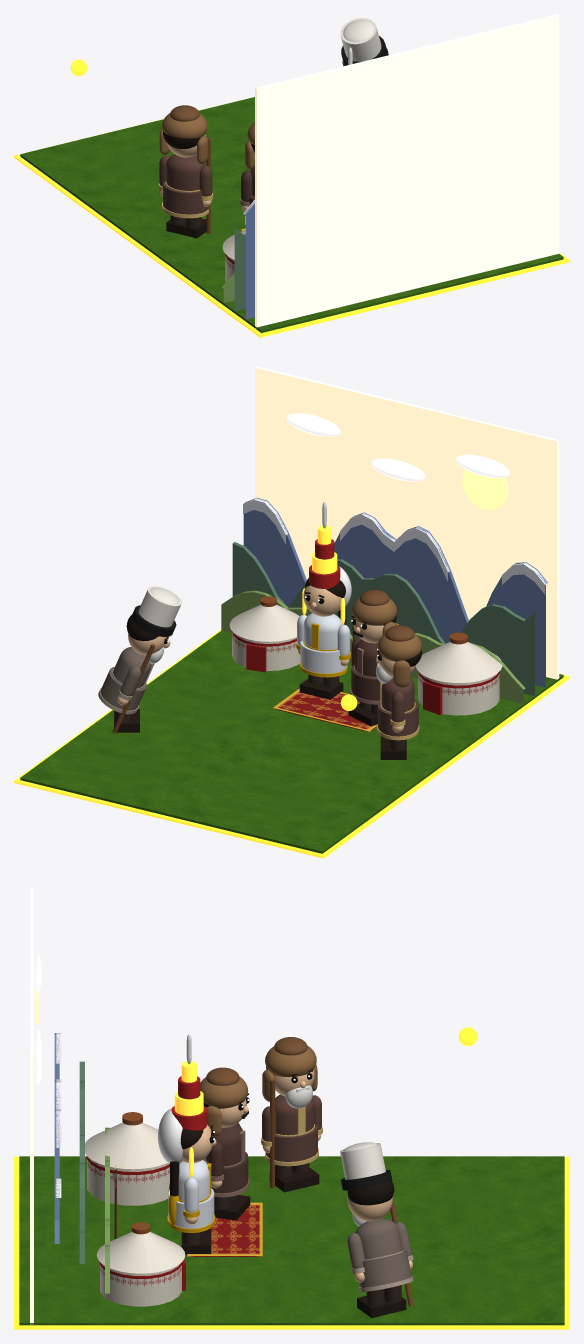
The picture shows the model from 3 angles, top to bottom: view 1: azimuth 30°, elevation 25°; view 2: azimuth 150°, elevation 25°; view 3: azimuth 270°, elevation 25°; orthographic projection. The views are drawn at different scales.
Visible parts, largest first — view 1: Аспан, Жер, Жиек, Torso, Алыс жота, Skirt, Орта жота, Kalpak, Tymaq, Top; view 2: Жер, Аспан, Алыс жота, Орта жота, Күмбез (×2), Жиек, Кереге (×2), Skirt (×4), Бұлт (×3), Қар, Torso (×3), Жақын төбе (+5 smaller); view 3: Жер, Күмбез (×2), Кереге (×2), Жиек, Skirt (×4), Torso (×4), Кілем, Tymaq (×2), Аспан, Kalpak, Орта жота, Face (×2) (+6 smaller).
Boxes of the visible parts, bbox=[...] form: Аспан: bbox=[255, 14, 559, 328]; Жер: bbox=[20, 97, 563, 332]; Жиек: bbox=[14, 98, 569, 337]; Torso: bbox=[166, 154, 204, 190]; Алыс жота: bbox=[244, 203, 254, 319]; Skirt: bbox=[163, 182, 207, 214]; Орта жота: bbox=[234, 228, 245, 311]; Kalpak: bbox=[340, 18, 381, 61]; Tymaq: bbox=[162, 113, 207, 138]; Top: bbox=[343, 20, 373, 42]; Жер: bbox=[20, 630, 563, 853]; Аспан: bbox=[255, 366, 559, 679]; Алыс жота: bbox=[243, 497, 547, 687]; Орта жота: bbox=[232, 542, 534, 695]; Күмбез (×2): bbox=[229, 604, 502, 682]; Жиек: bbox=[14, 629, 569, 858]; Кереге (×2): bbox=[232, 632, 499, 715]; Skirt (×4): bbox=[100, 641, 418, 736]; Бұлт (×3): bbox=[286, 413, 509, 481]; Қар: bbox=[243, 498, 547, 594]; Torso (×3): bbox=[113, 613, 414, 711]; Жақын төбе: bbox=[221, 590, 525, 704]; Жер: bbox=[19, 1156, 564, 1325]; Күмбез (×2): bbox=[85, 1122, 185, 1273]; Кереге (×2): bbox=[87, 1158, 181, 1306]; Жиек: bbox=[14, 1156, 569, 1329]; Skirt (×4): bbox=[168, 1125, 411, 1287]; Torso (×4): bbox=[178, 1094, 402, 1259]; Кілем: bbox=[187, 1202, 262, 1256]; Tymaq (×2): bbox=[200, 1046, 316, 1108]; Аспан: bbox=[30, 887, 33, 1324]; Kalpak: bbox=[340, 1143, 385, 1179]; Орта жота: bbox=[79, 1061, 84, 1263]; Face (×2): bbox=[182, 1124, 392, 1221].
Bounding box in the file's own units: 0.9635 × 0.7206 × 1.33.
44 materials, 3 textured.
